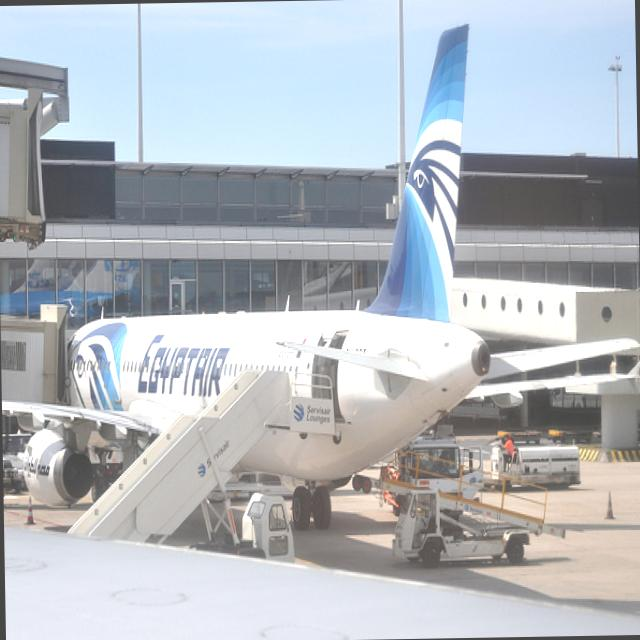Vehicle: (390, 485, 531, 567), (378, 432, 462, 515), (490, 439, 580, 491)
